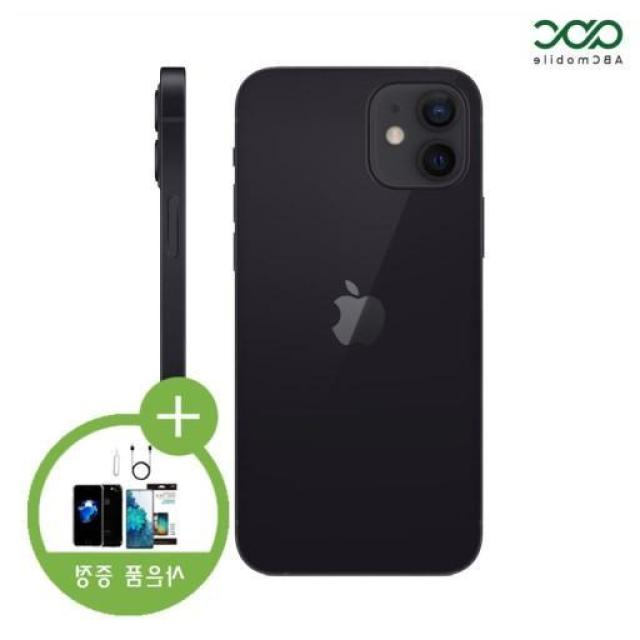mobile: (236, 65, 482, 579)
